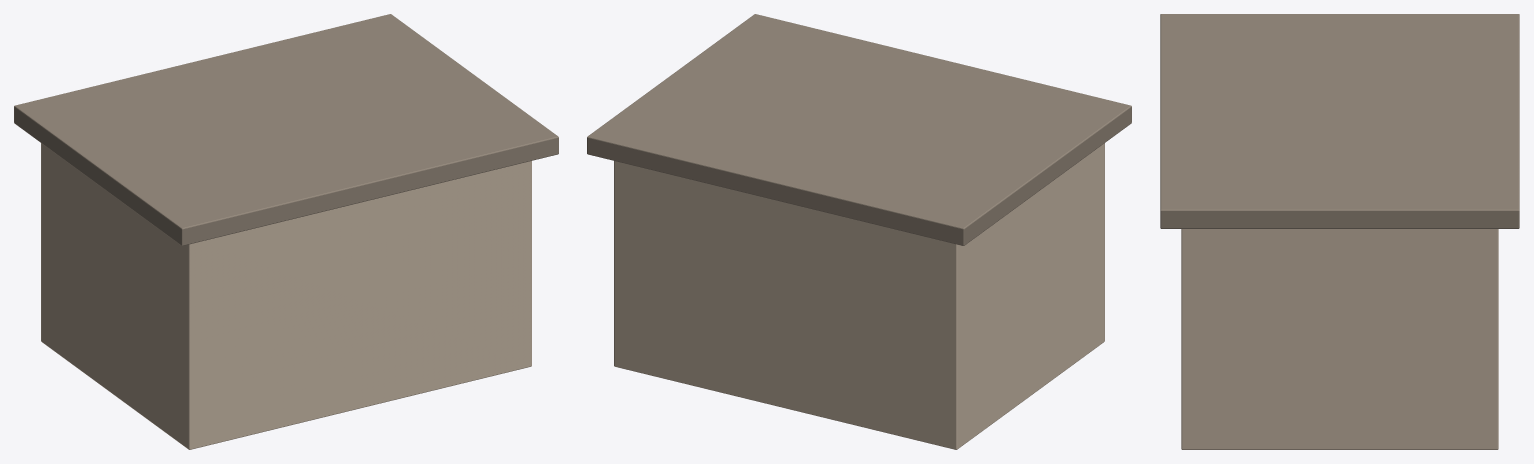
The model's file is plain_hut.glb.
The picture shows the model from 3 angles, left to right: view 1: azimuth 30°, elevation 25°; view 2: azimuth 150°, elevation 25°; view 3: azimuth 270°, elevation 25°; orthographic projection. The views are drawn at different scales.
Parts seen in each view (by area): view 1: wall, roof; view 2: wall, roof; view 3: roof, wall.
Part boxes in pixels (x1,y1,x2,y2): wall: [41, 143, 531, 449]; roof: [14, 14, 558, 245]; wall: [614, 143, 1104, 449]; roof: [587, 14, 1131, 245]; roof: [1160, 14, 1519, 228]; wall: [1181, 229, 1498, 449].
Size of what is drawn, in the model's own units: 4.4 by 2.6 by 3.4.
